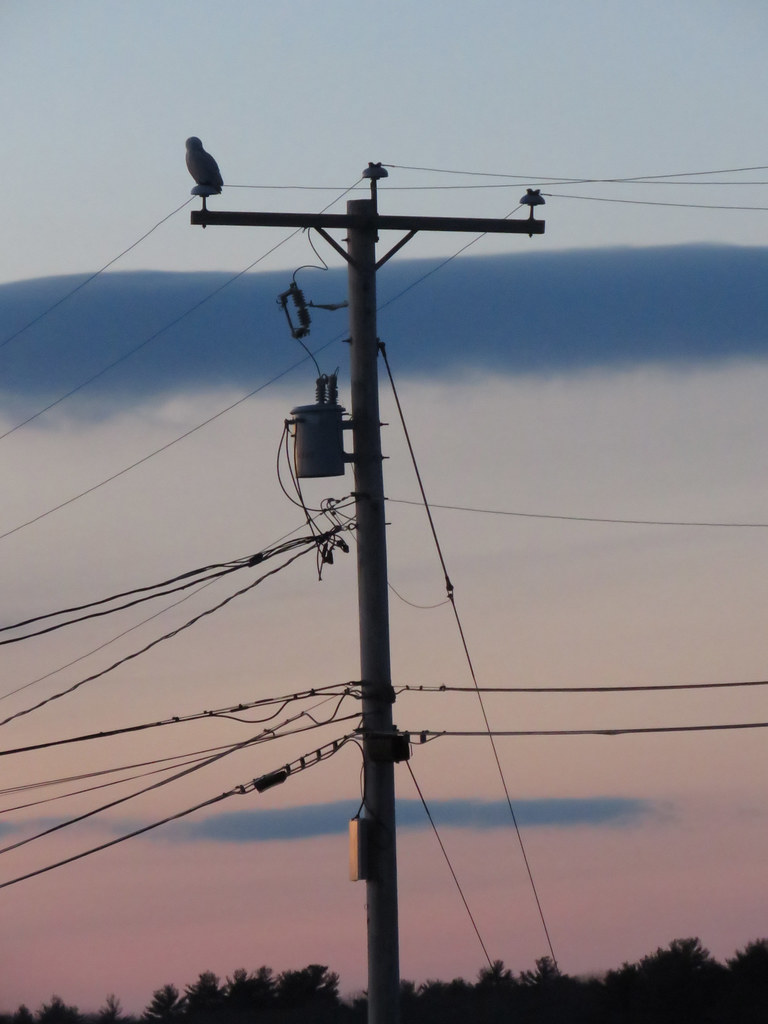utility_pole: (149, 107, 563, 578)
